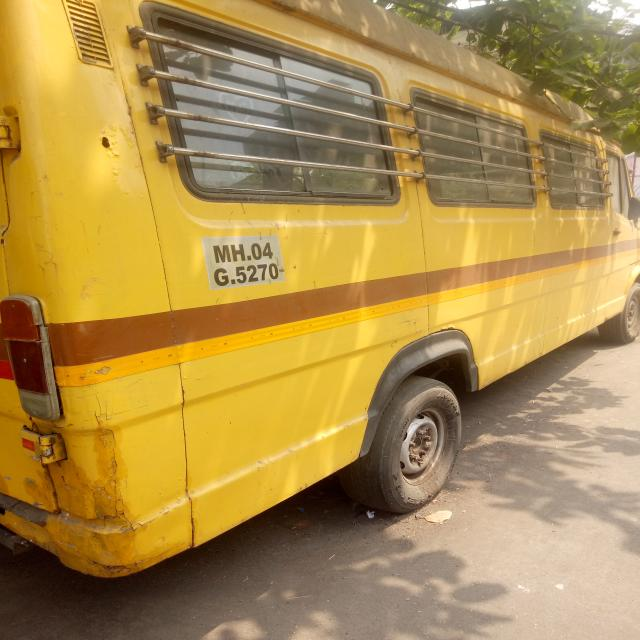Bus: (0, 0, 638, 576)
